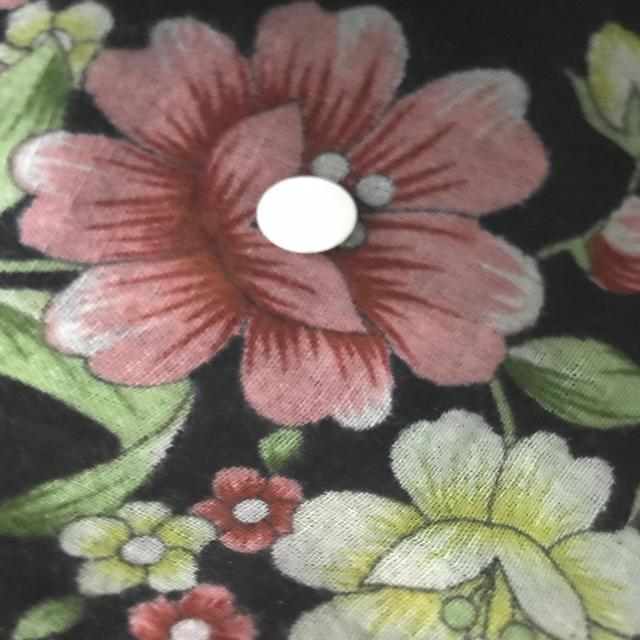pill: (256, 173, 360, 256)
